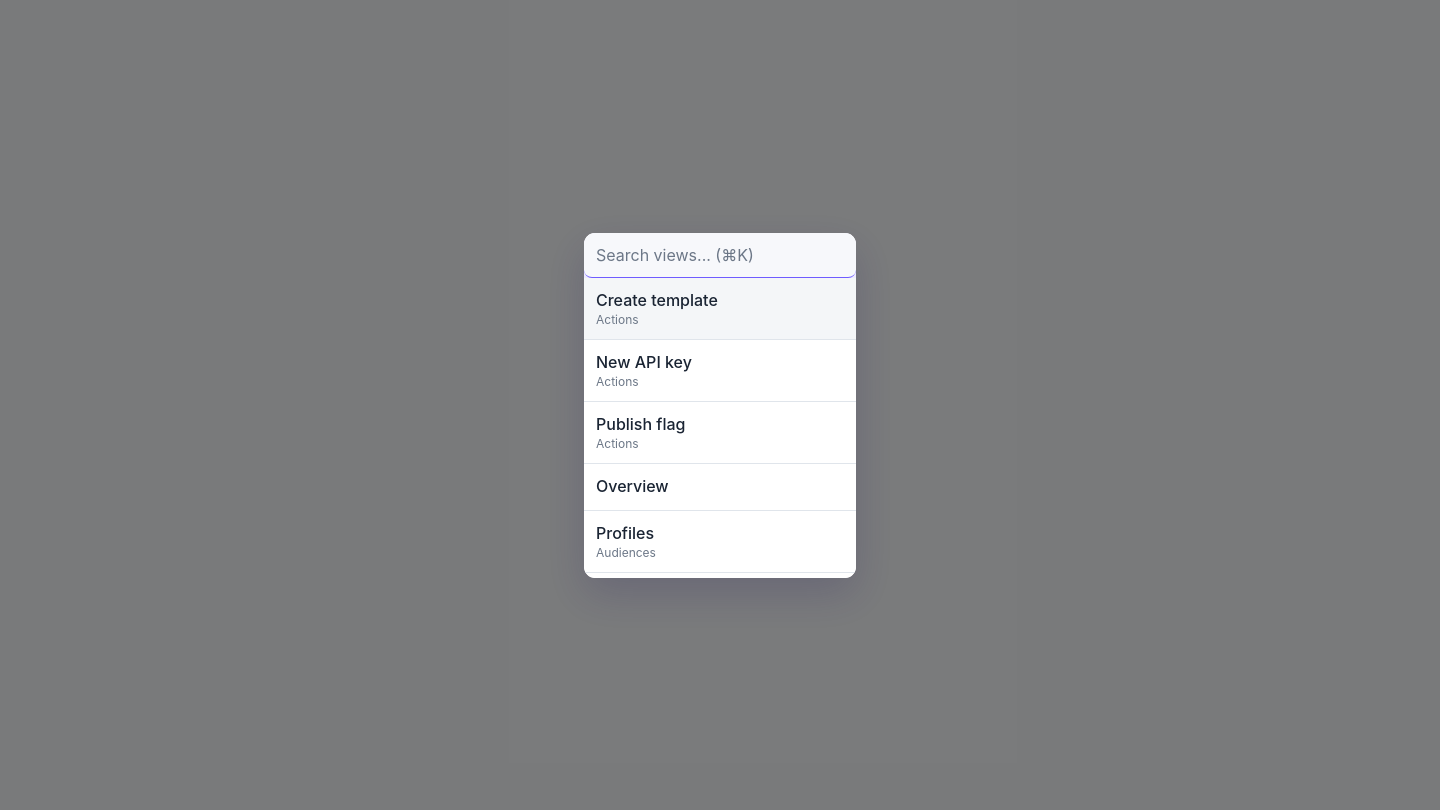
Test: CommandPalette › shows empty state when no results
Type "nonexistent" into the field with placeholder "Search views... (⌘K)" at coordinates (720, 255), box [584,232,856,278]
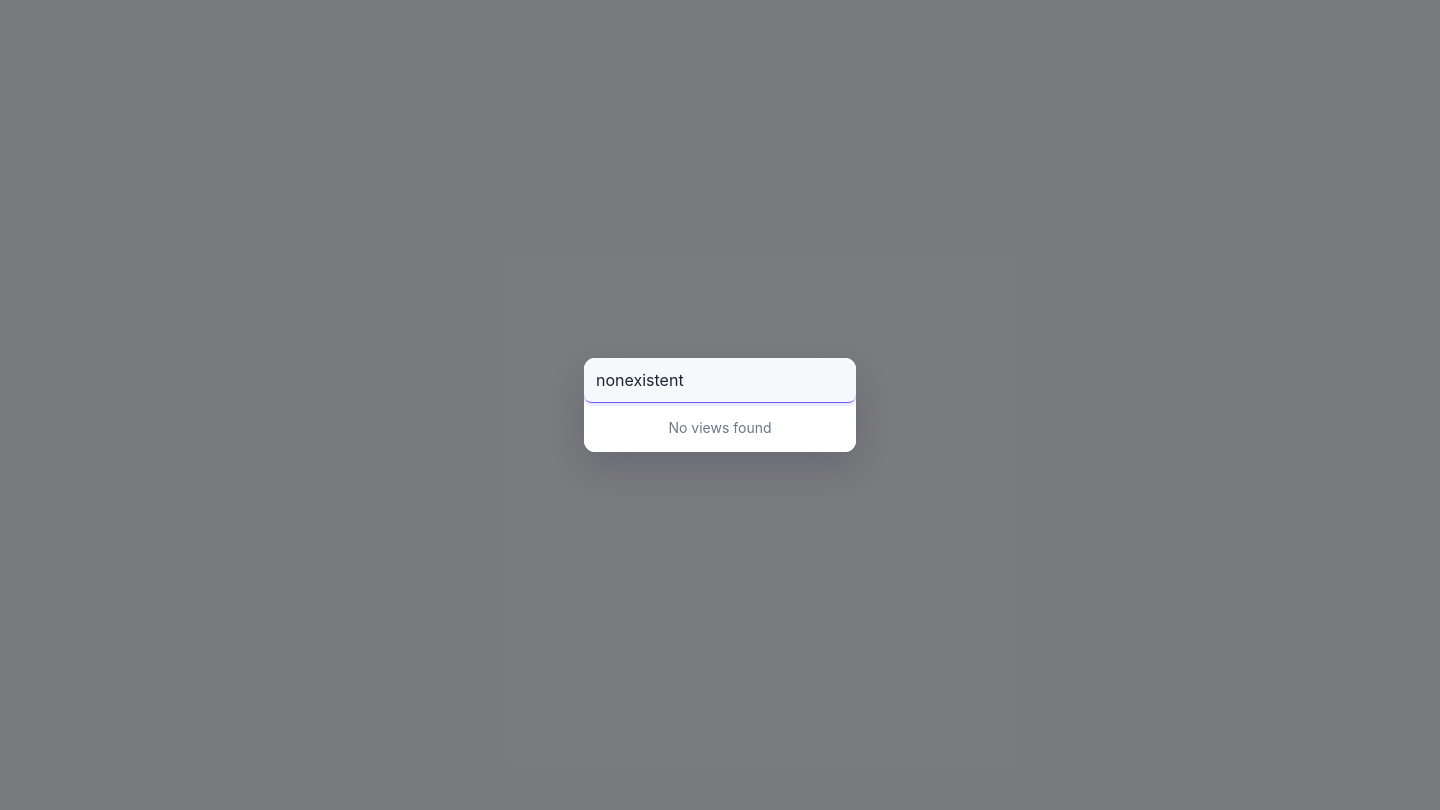
Result: the text "No views found" is shown at [668,419,772,436]
